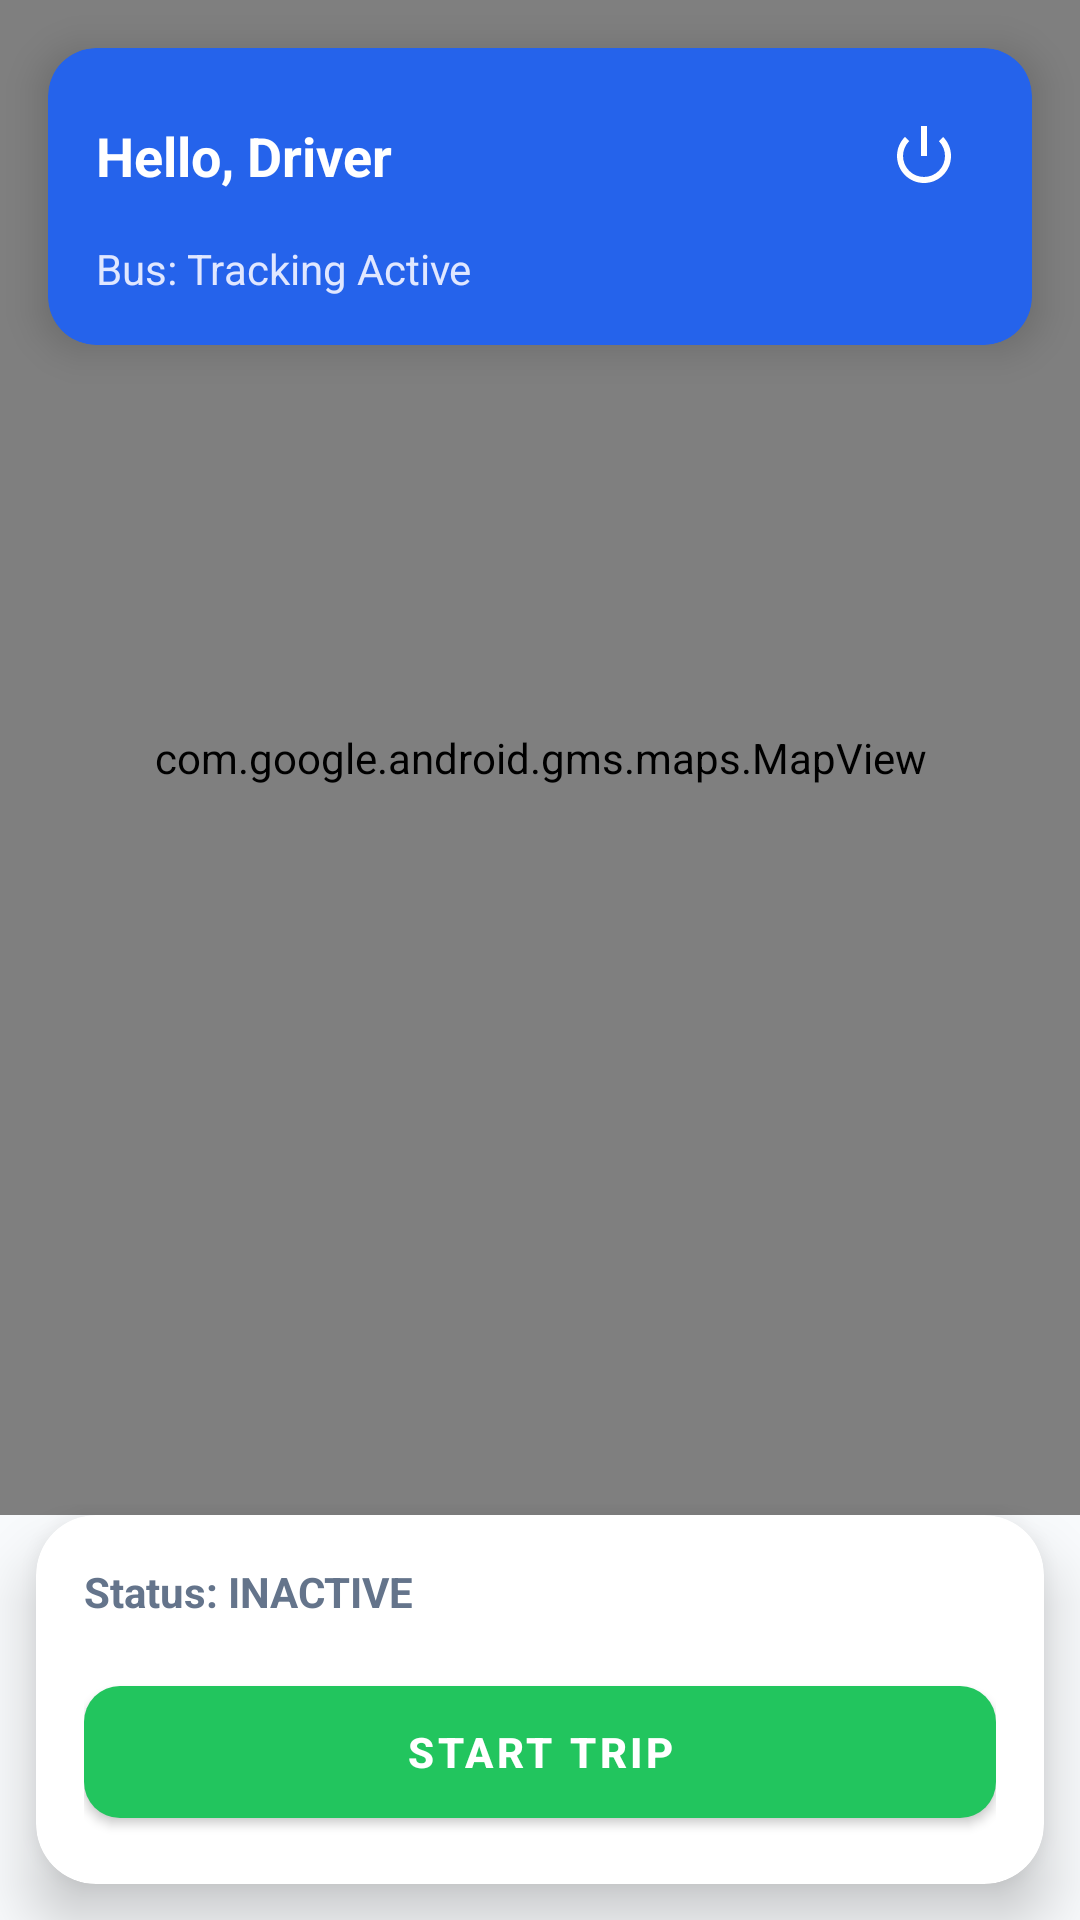

Icon bounding boxes for this 1080w x 1920h phone screenshot, format (x1, y1, x2, y2):
lock power off: (897, 126, 951, 183)
